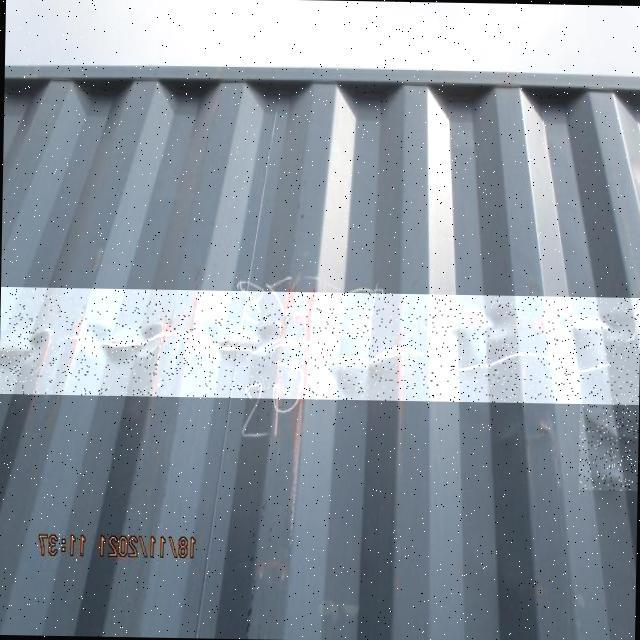Dent: (0, 286, 640, 404)
Minor-Dent: (579, 404, 639, 491)
